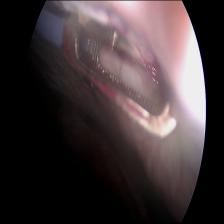Bipolar: (38, 7, 173, 126)
